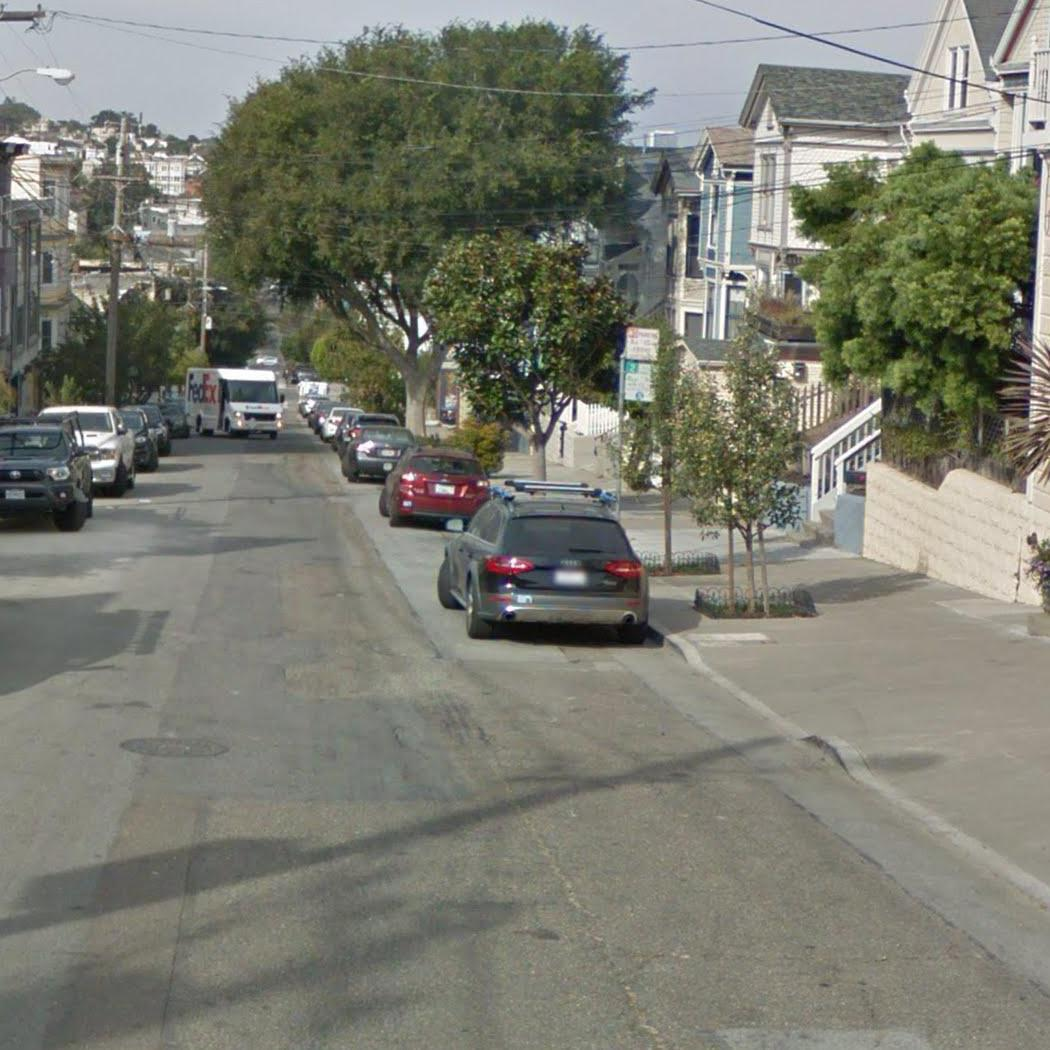2 Hour Parking: (622, 359, 659, 403)
No Parking: (625, 326, 660, 362)
